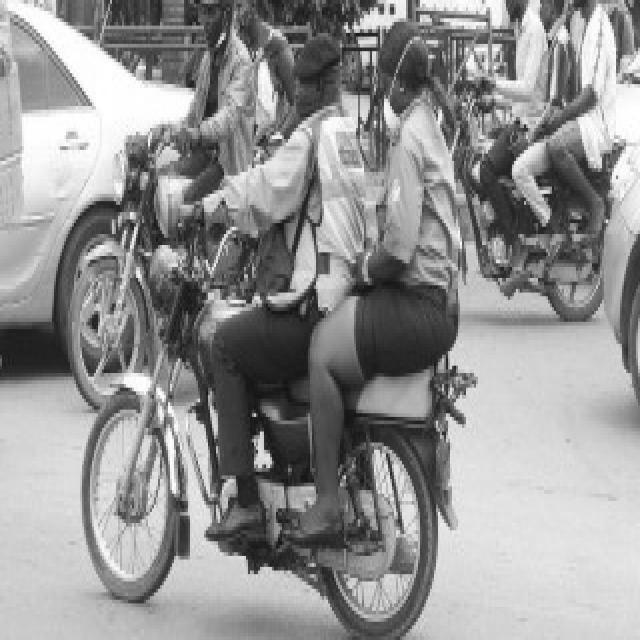Motorbike: (81, 18, 482, 640), (71, 0, 302, 414), (463, 0, 626, 322)
